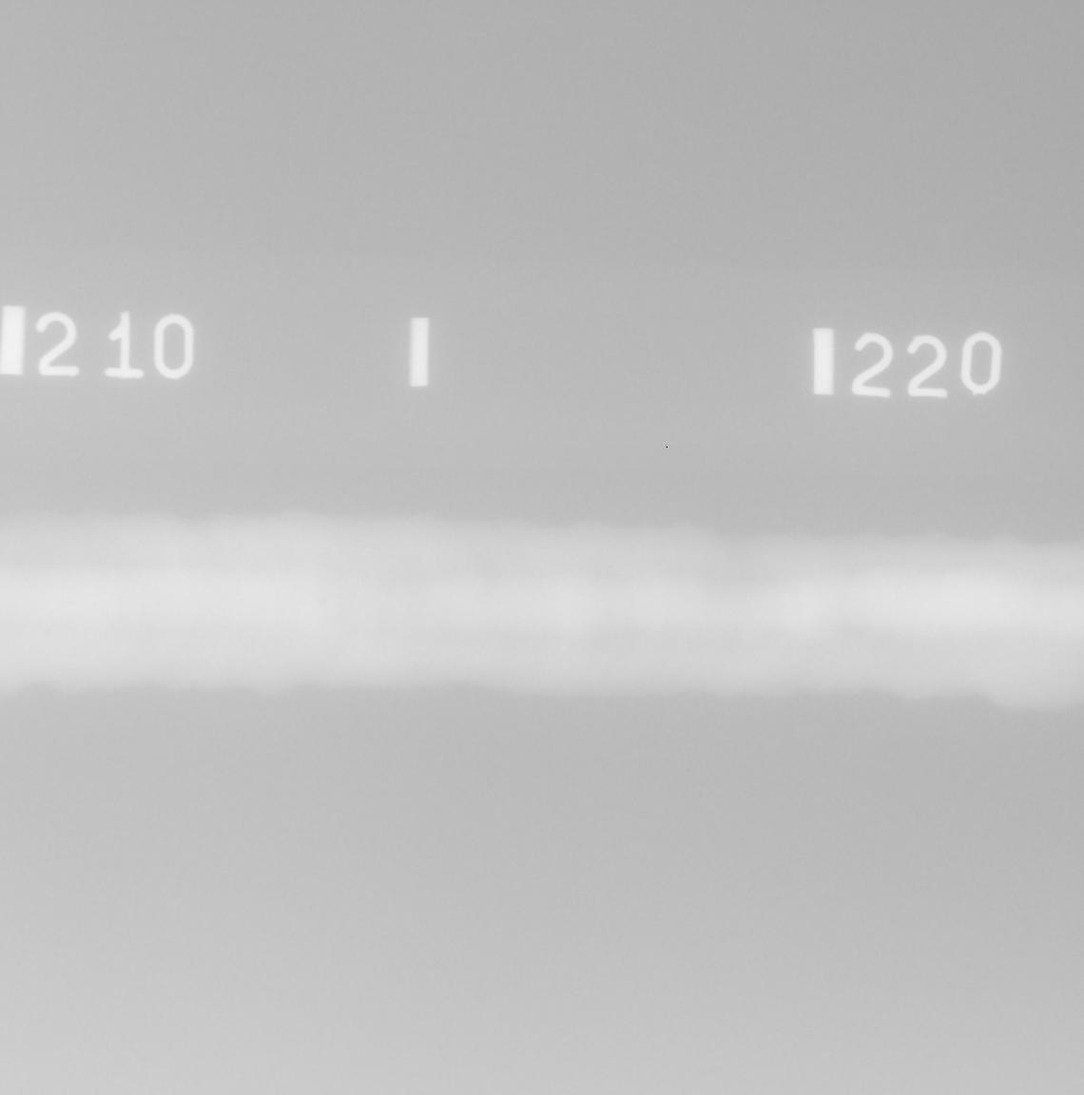Pore/Porosity: (319, 598, 327, 607), (44, 628, 52, 636), (926, 623, 933, 629), (805, 645, 811, 651)
